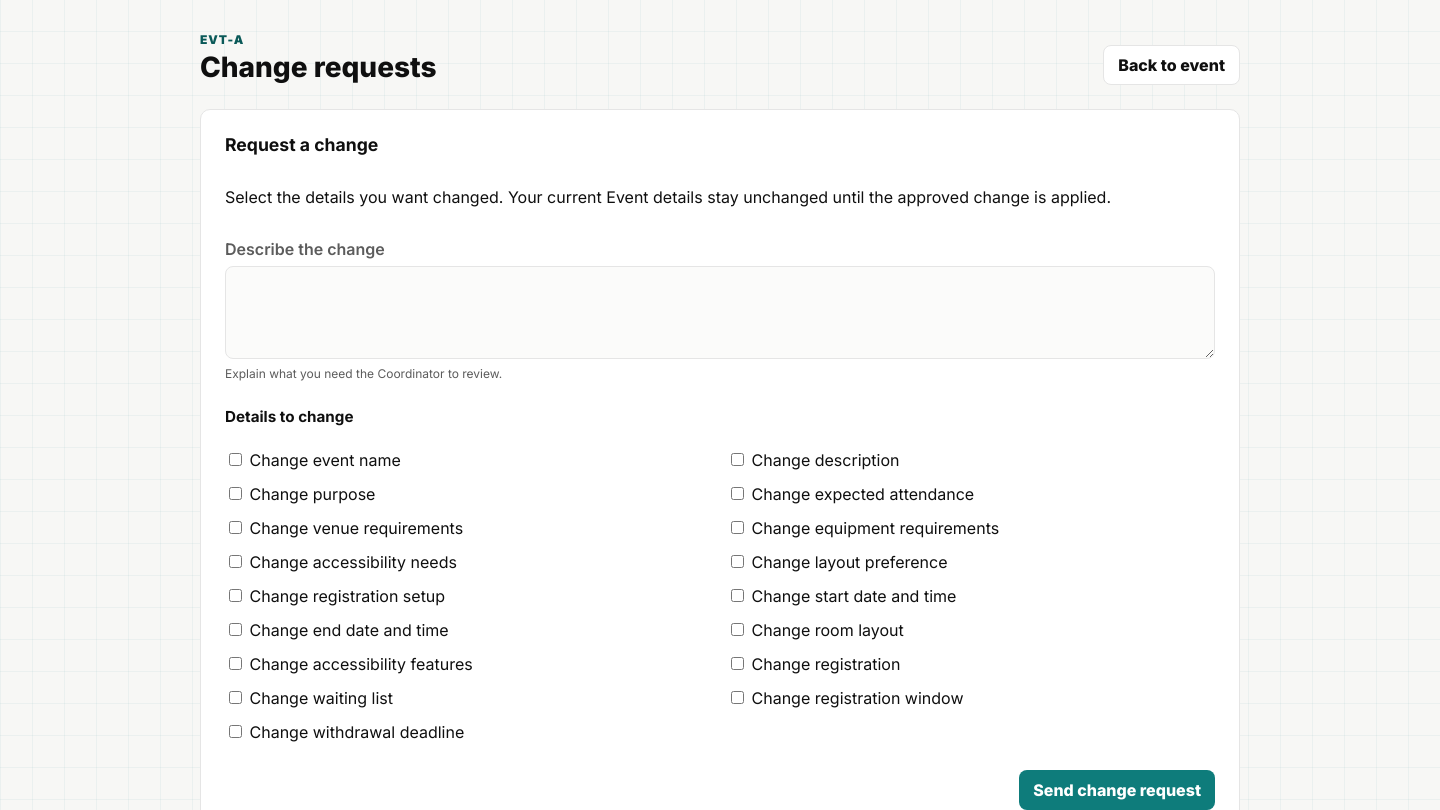
Test: TC_E10S01_01: validation and rejected save preserve the draft for correction
Click the button "Send change request": (1117, 790) [1019, 770, 1215, 809]
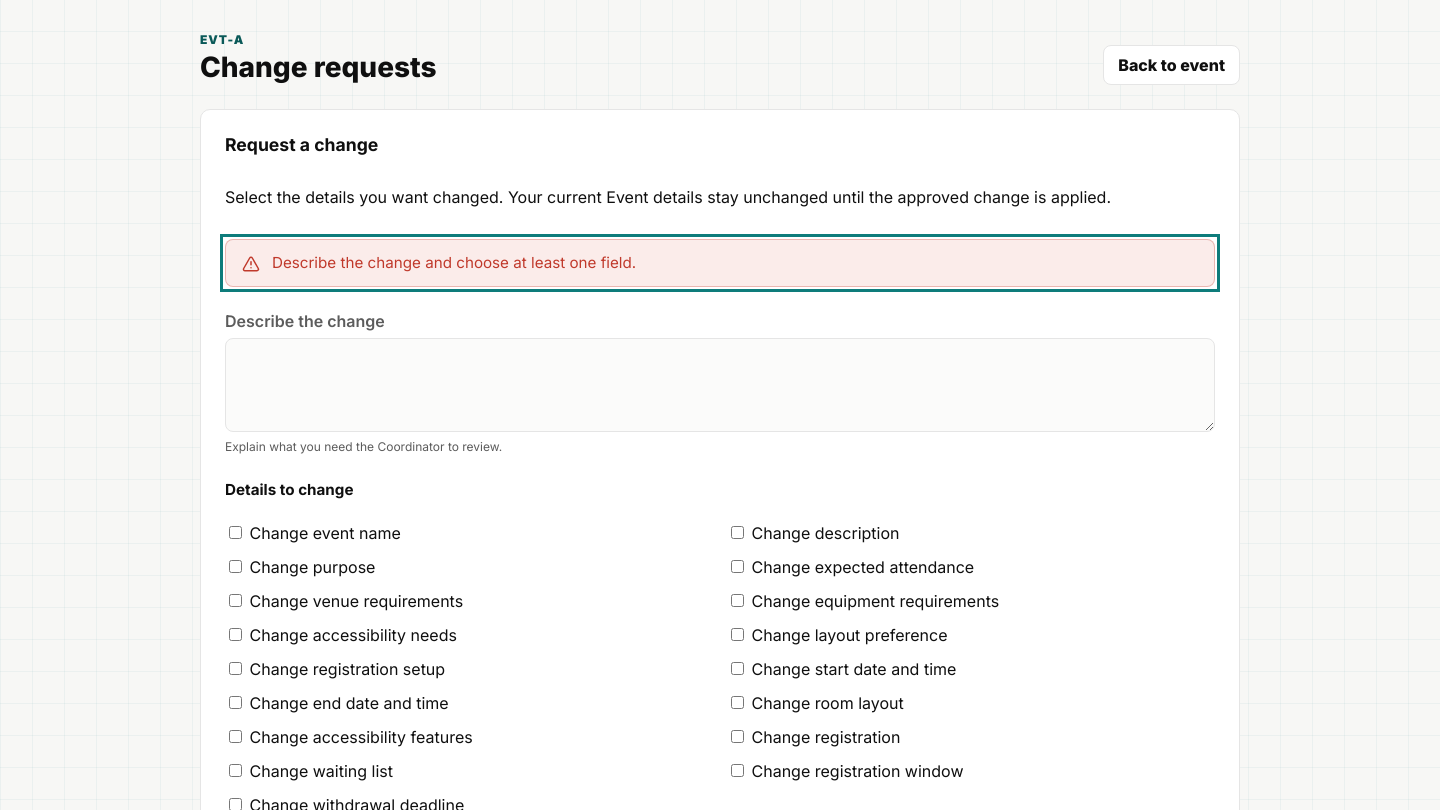
Check: the message reads "Describe the change and choose at least one field.", box [272, 253, 636, 272]
In the text box labelled "Describe the change": (720, 385) [225, 338, 1215, 432], type "Update"
Click the checkbox labelled "Change purpose": (236, 566) [229, 560, 242, 573]
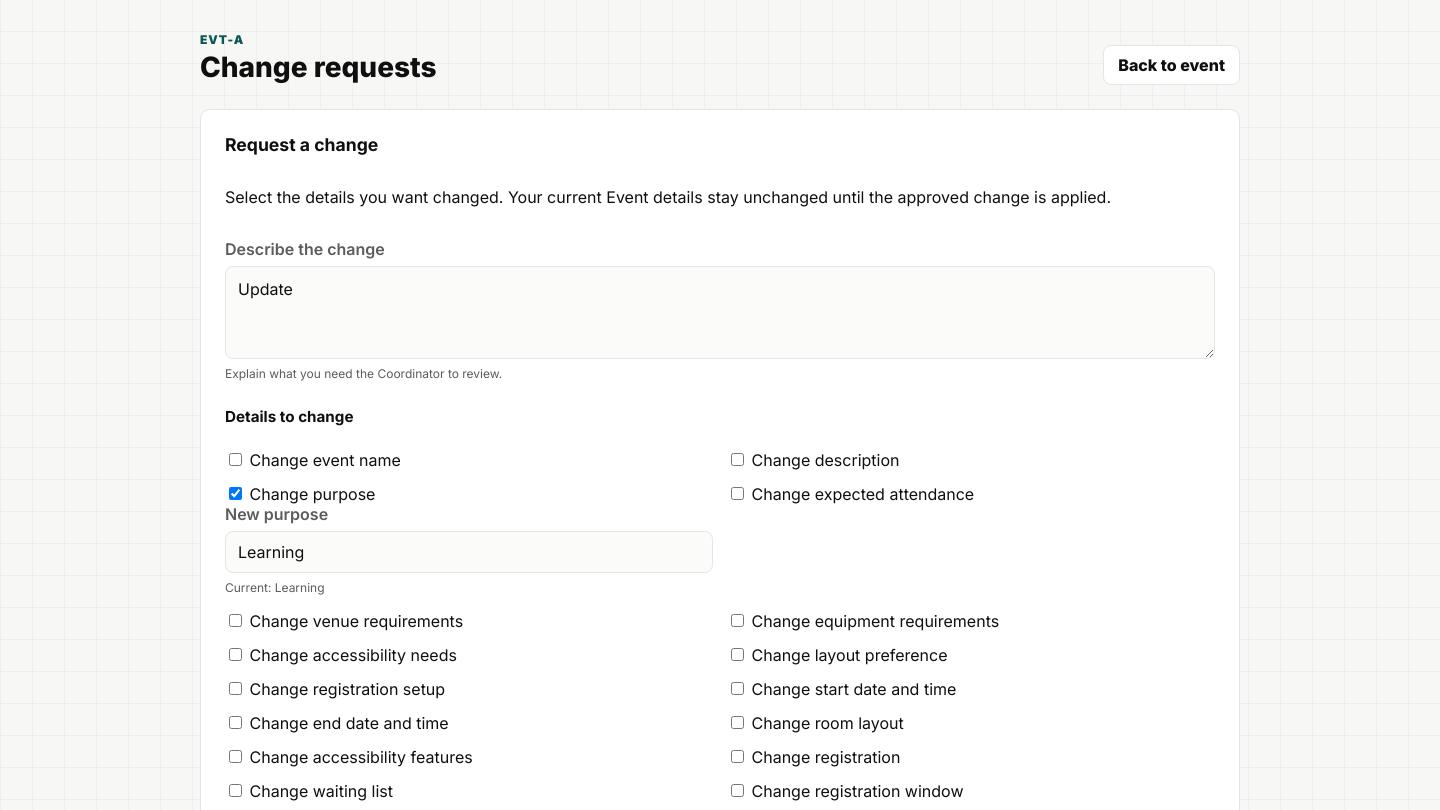
Clear the field labelled "New purpose": (469, 552) [225, 531, 713, 573]
(page scrolled)
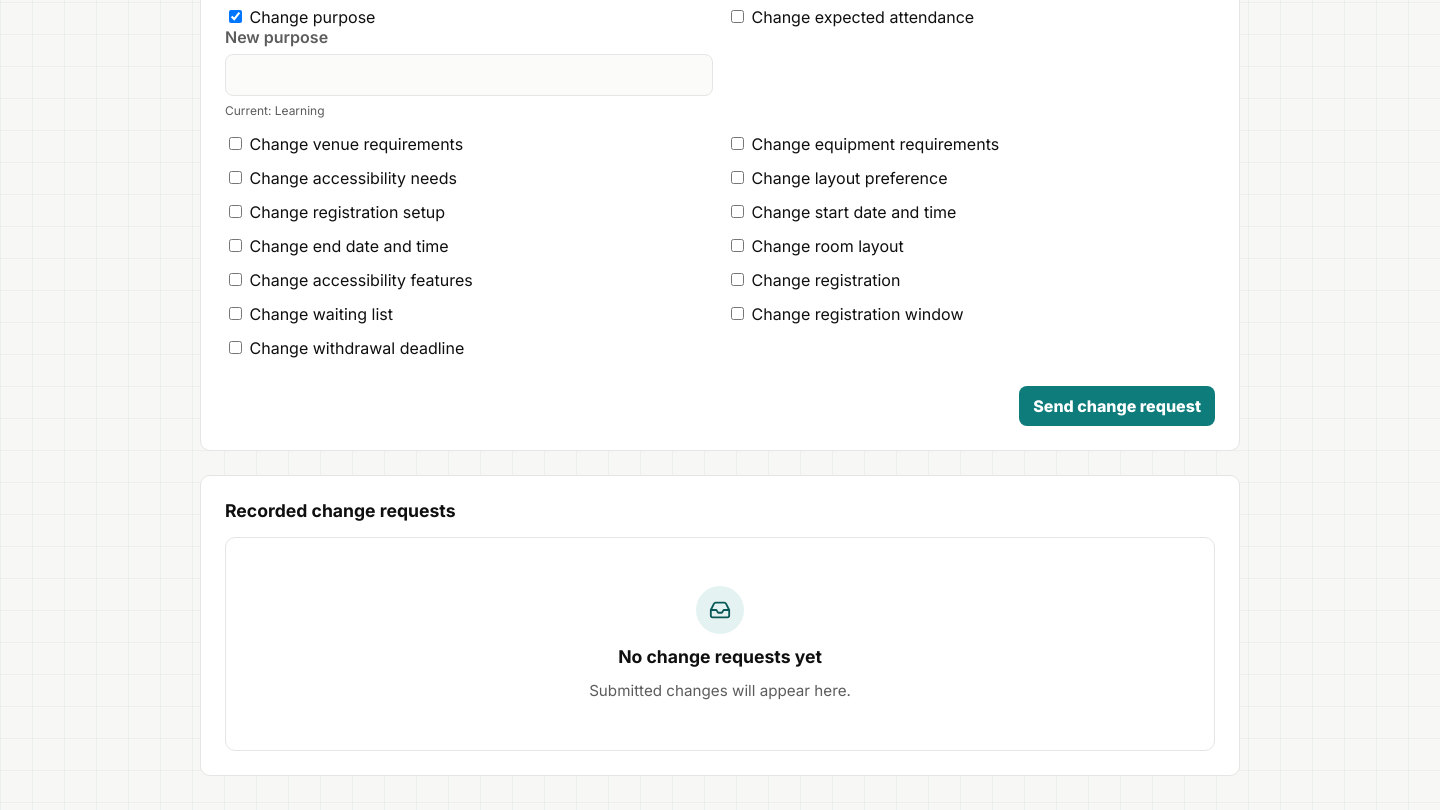
Click the button "Send change request": (1117, 406) [1019, 386, 1215, 426]
(page scrolled)
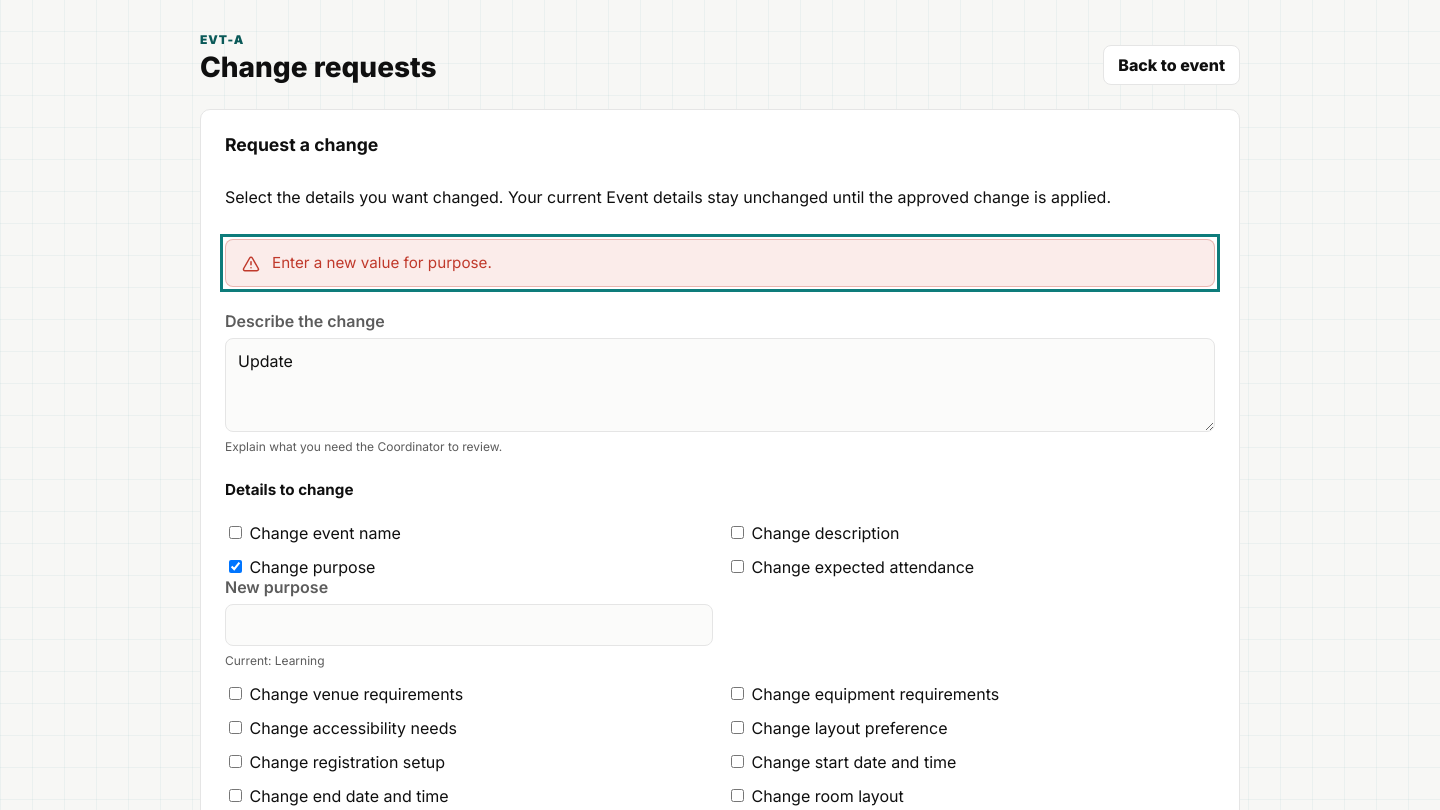
Check: the message reads "Enter a new value for purpose.", box [272, 253, 492, 272]
In the field labelled "New purpose": (469, 625) [225, 604, 713, 646], type "New purpose"
(page scrolled)
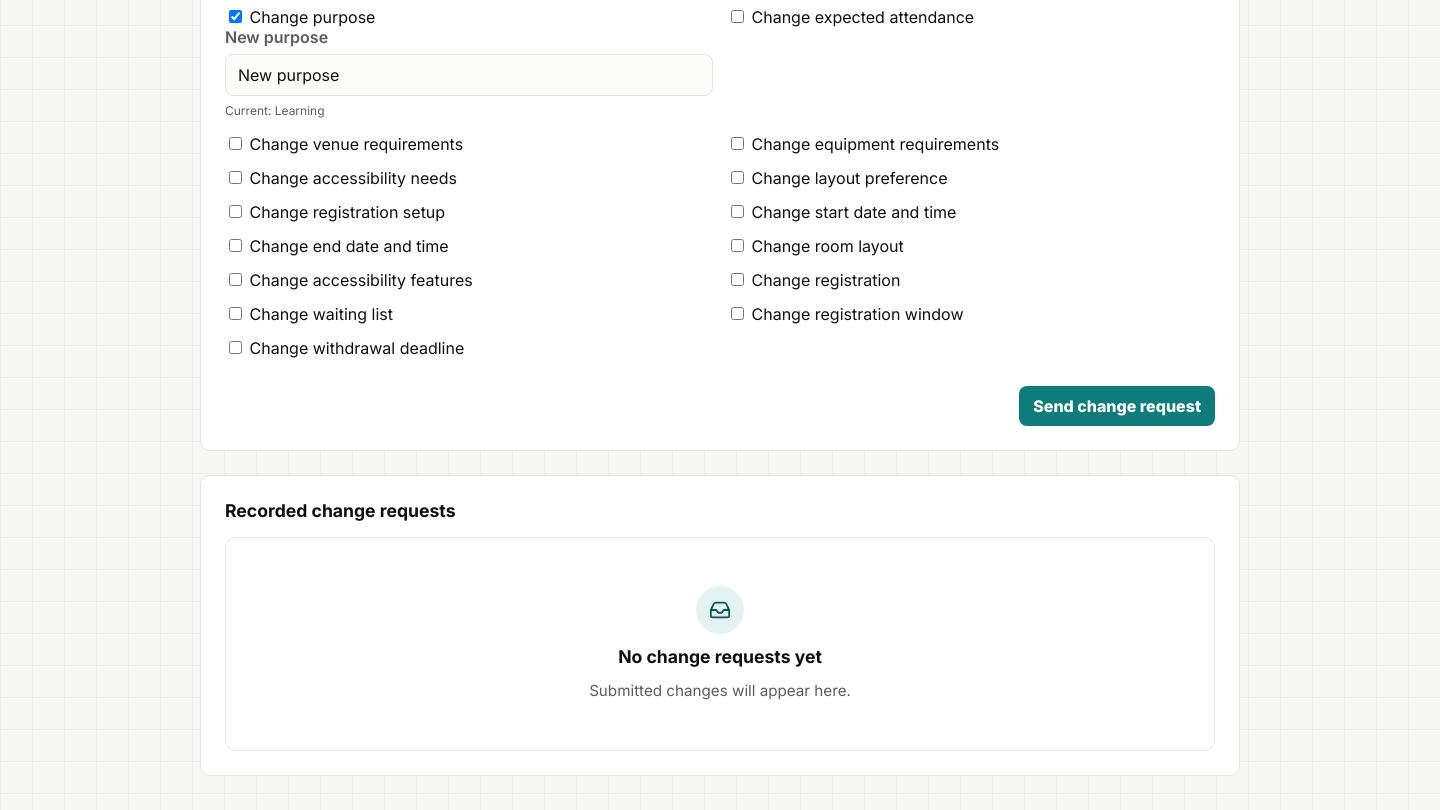
Click the button "Send change request": (1117, 406) [1019, 386, 1215, 426]
(page scrolled)
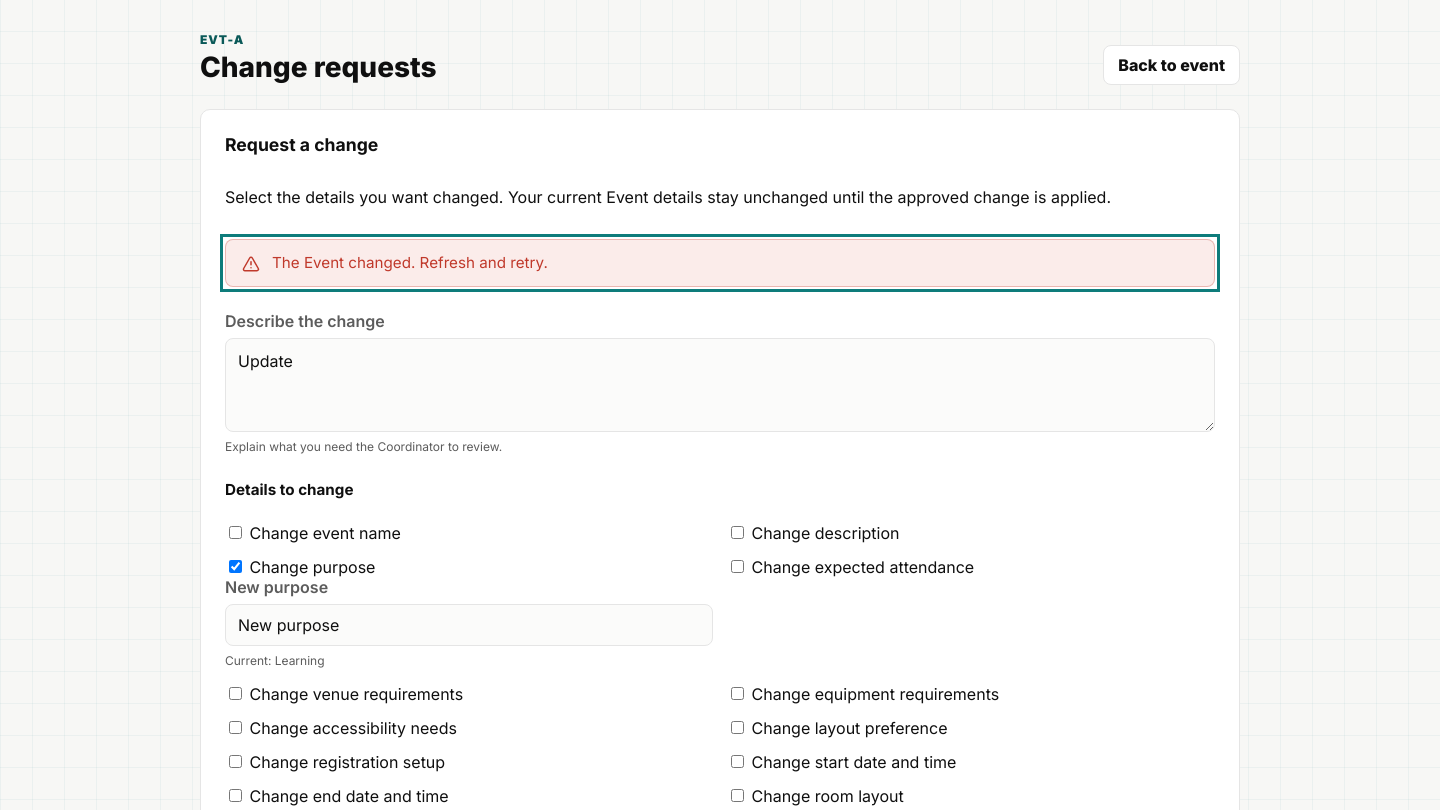
Check: the text "The Event changed. Refresh and retry." is shown, box [272, 253, 548, 272]
